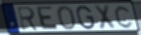C: (113, 5, 134, 29)
E: (36, 6, 61, 31)
G: (76, 5, 97, 31)
O: (56, 5, 78, 31)
R: (16, 6, 40, 32)
X: (93, 4, 118, 31)
